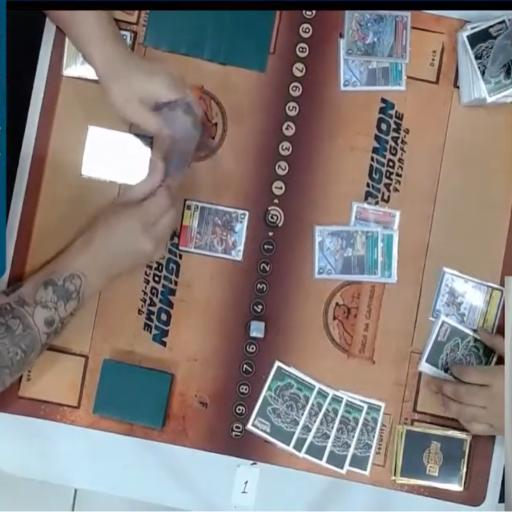card: (435, 269, 505, 341), (175, 203, 251, 262), (58, 26, 133, 80), (340, 39, 406, 93), (340, 11, 408, 63), (314, 230, 380, 280), (348, 202, 402, 237), (380, 230, 401, 284)
